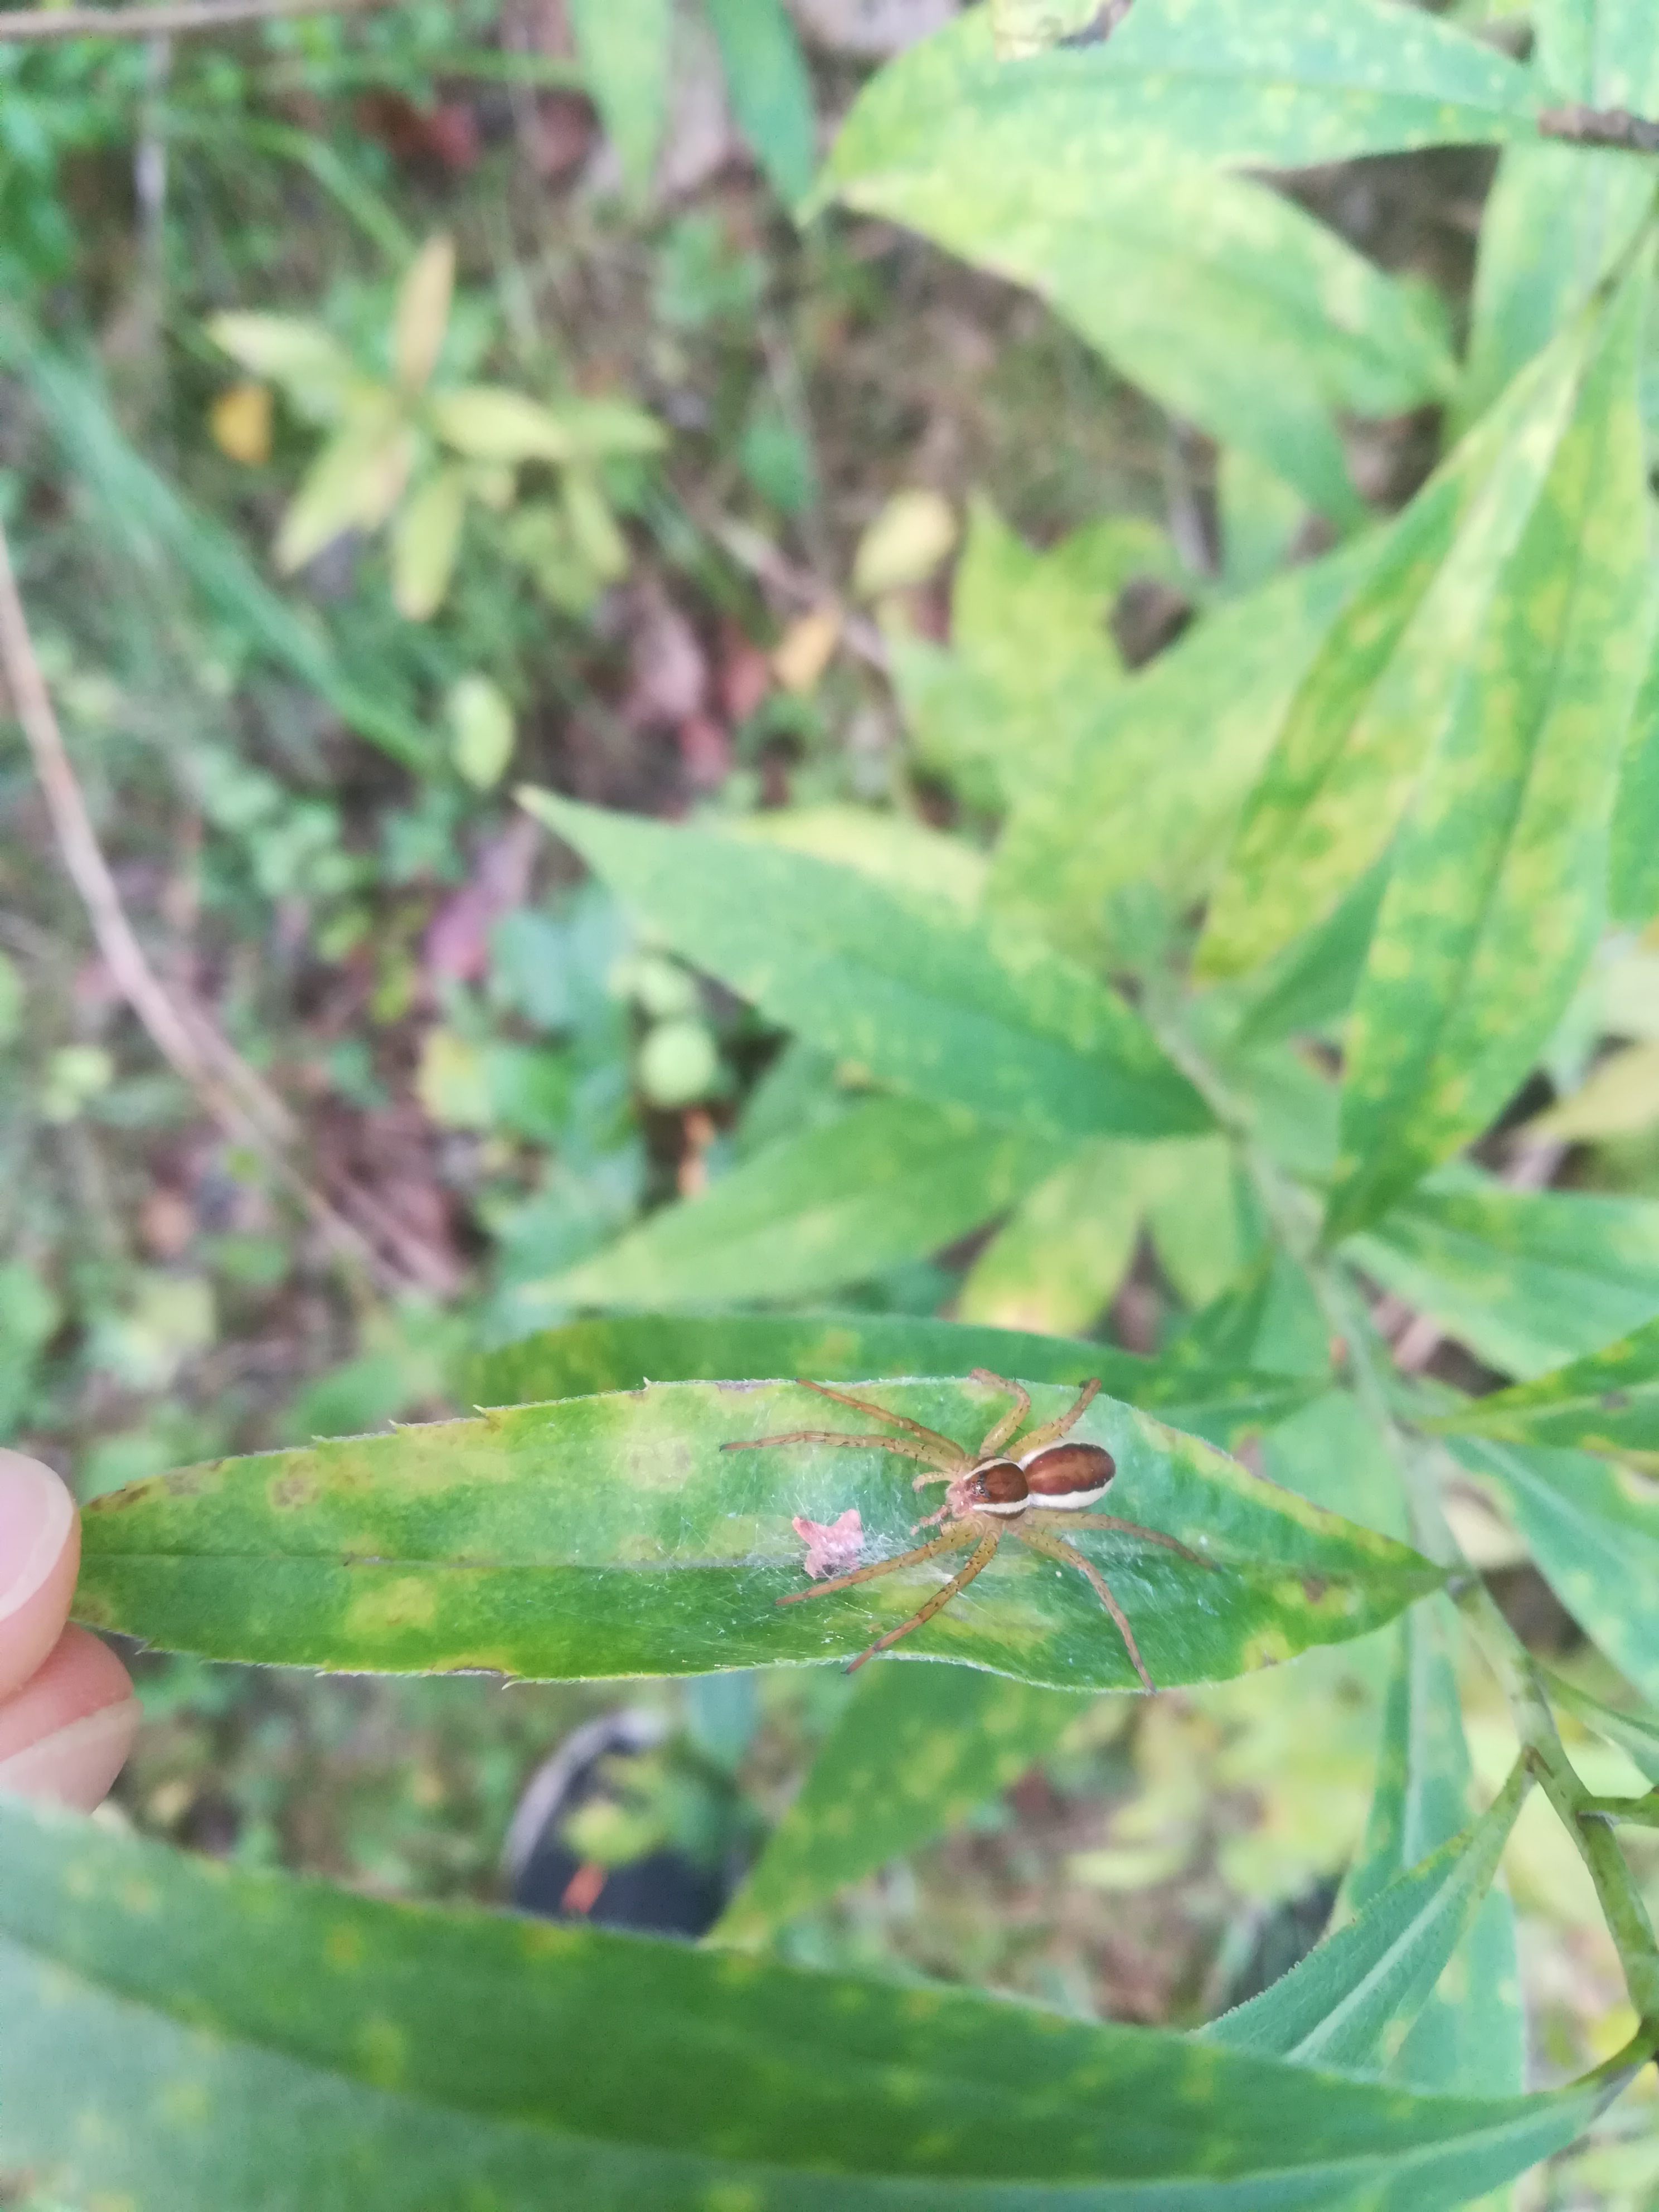spider: (683, 1315, 1195, 1775)
